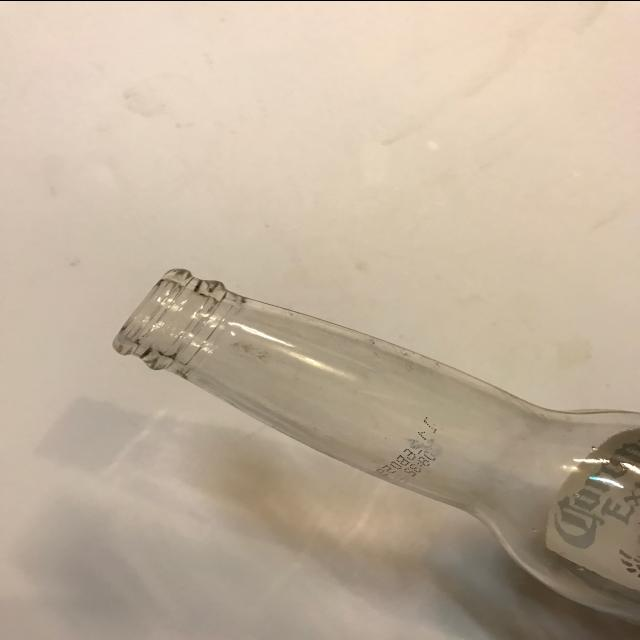glass: (109, 260, 640, 626)
